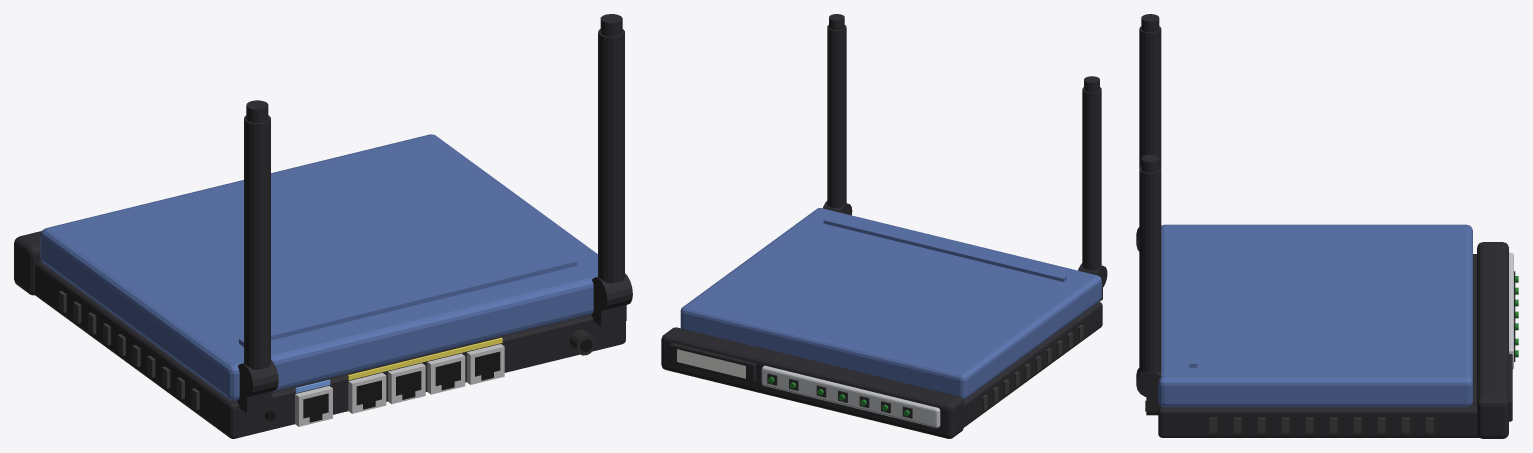
The model's file is router_wr54.glb.
3 views of the same model, side by side, from view 1: azimuth 30°, elevation 25°; view 2: azimuth 150°, elevation 25°; view 3: azimuth 270°, elevation 25° (orthographic). The views are drawn at different scales.
Parts seen in each view (by area): view 1: side_panel, body, antenna_r, antenna_l; view 2: side_panel, body, antenna_r, antenna_l, badge_front; view 3: side_panel, body, antenna_l, antenna_r.
Part boxes in pixels (bbox=[...]): side_panel: bbox=[40, 134, 597, 400]; body: bbox=[14, 231, 626, 438]; antenna_r: bbox=[238, 100, 278, 397]; antenna_l: bbox=[592, 14, 632, 310]; side_panel: bbox=[680, 208, 1101, 399]; body: bbox=[661, 288, 1102, 438]; antenna_r: bbox=[1078, 76, 1107, 287]; antenna_l: bbox=[823, 14, 852, 215]; badge_front: bbox=[677, 349, 745, 378]; side_panel: bbox=[1158, 224, 1472, 407]; body: bbox=[1145, 242, 1515, 438]; antenna_l: bbox=[1136, 154, 1161, 397]; antenna_r: bbox=[1136, 14, 1161, 251].
Bounding box in the file's own units: 0.19 × 0.154 × 0.1908.
